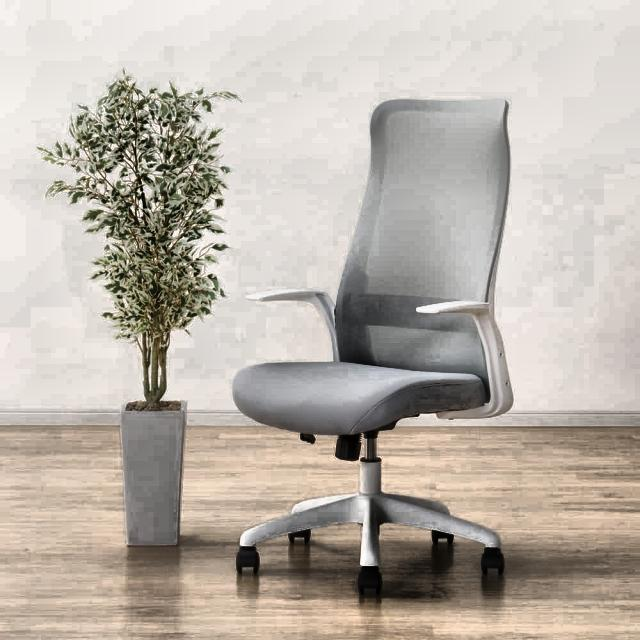cadeira: (228, 92, 522, 596)
